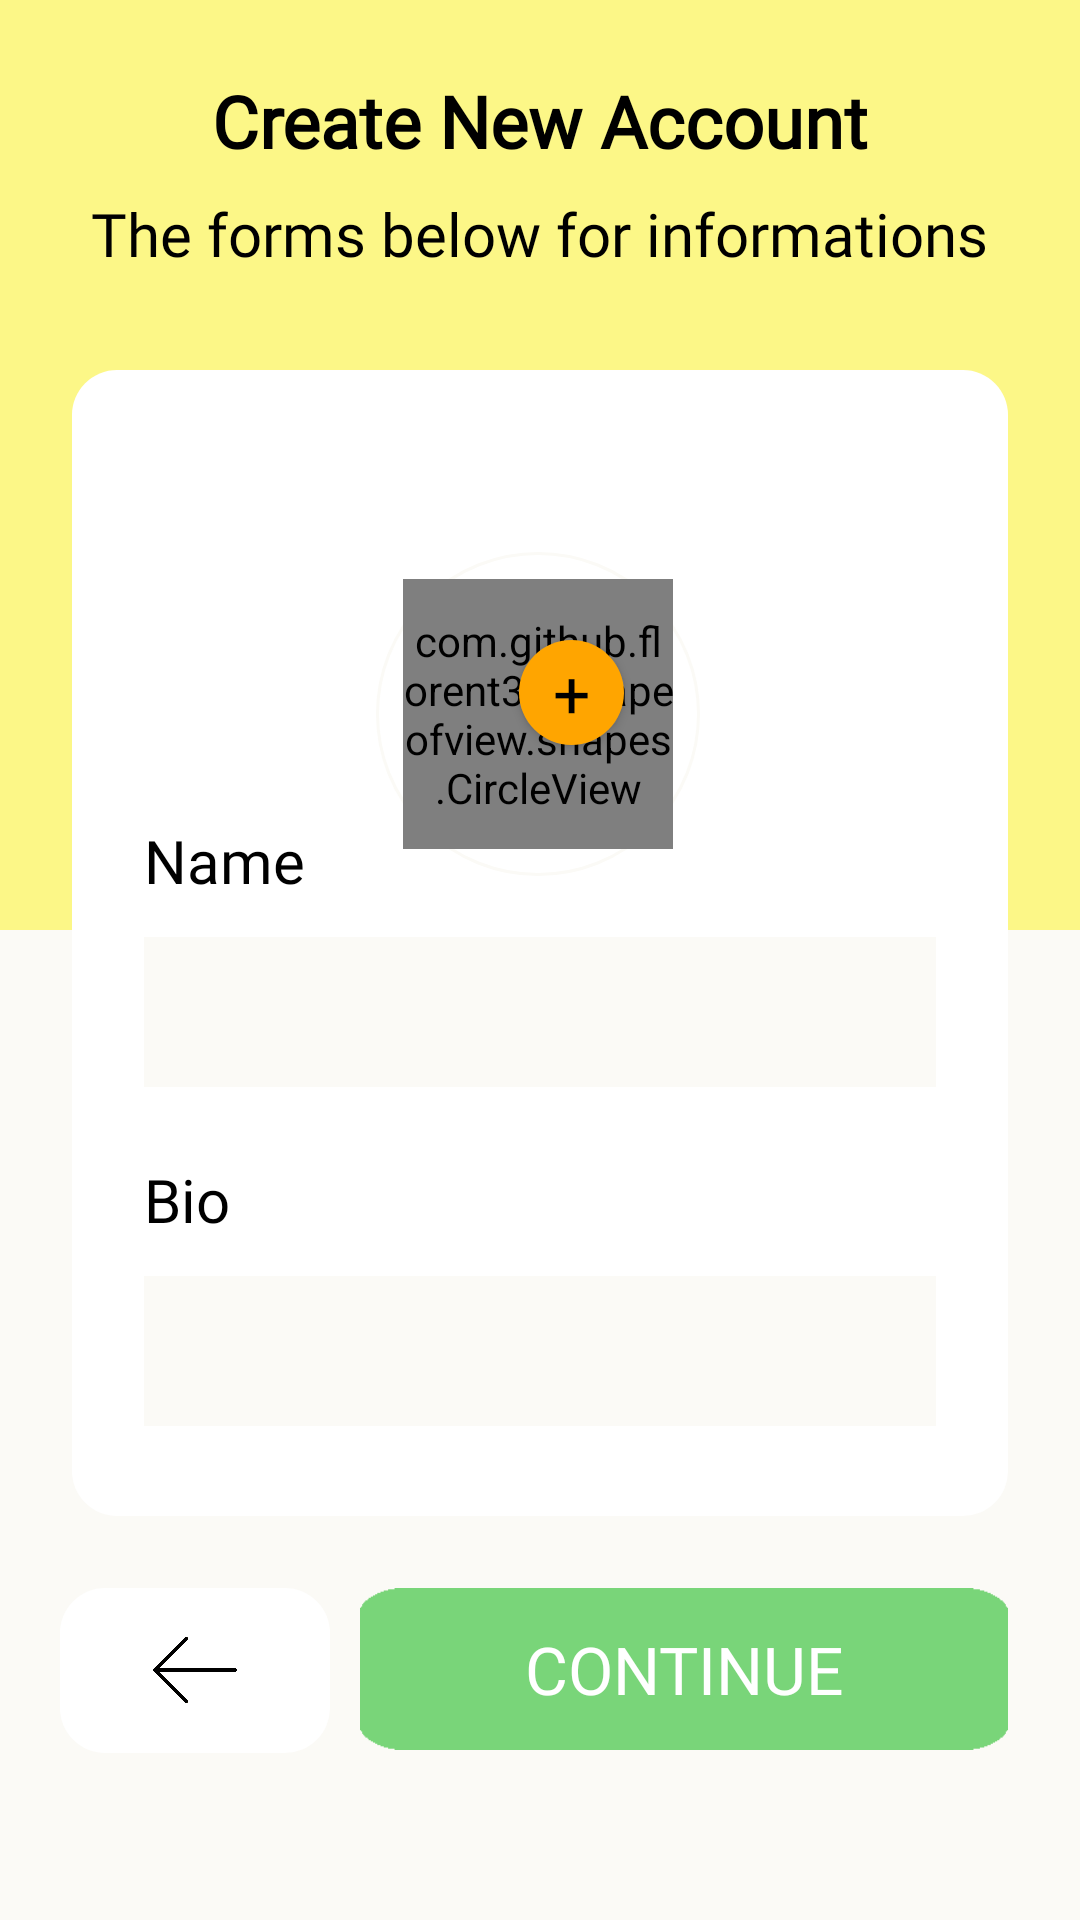

Icons on this 1080x1920 Android screen, each with the point to tap as (x,y):
buttonback: (195,1670)
